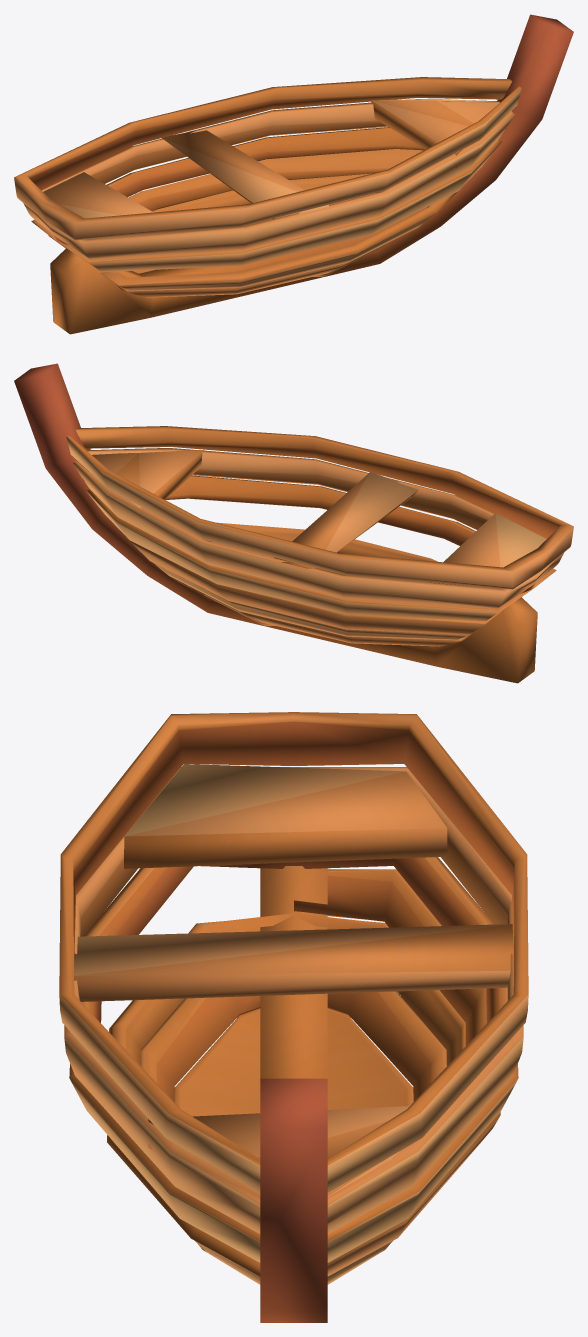
Rendered from GL-Manmade-13.fbx.
The picture shows the model from 3 angles, top to bottom: view 1: azimuth 30°, elevation 25°; view 2: azimuth 150°, elevation 25°; view 3: azimuth 270°, elevation 25°; orthographic projection. The views are drawn at different scales.
Parts seen in each view (by area): view 1: GL-Manmade-13; view 2: GL-Manmade-13; view 3: GL-Manmade-13.
Part boxes in pixels (bbox=[...]): GL-Manmade-13: bbox=[14, 14, 573, 334]; GL-Manmade-13: bbox=[14, 363, 573, 683]; GL-Manmade-13: bbox=[59, 712, 528, 1322].
Size of the model in its own units: 3.17 by 1.13 by 1.23.
